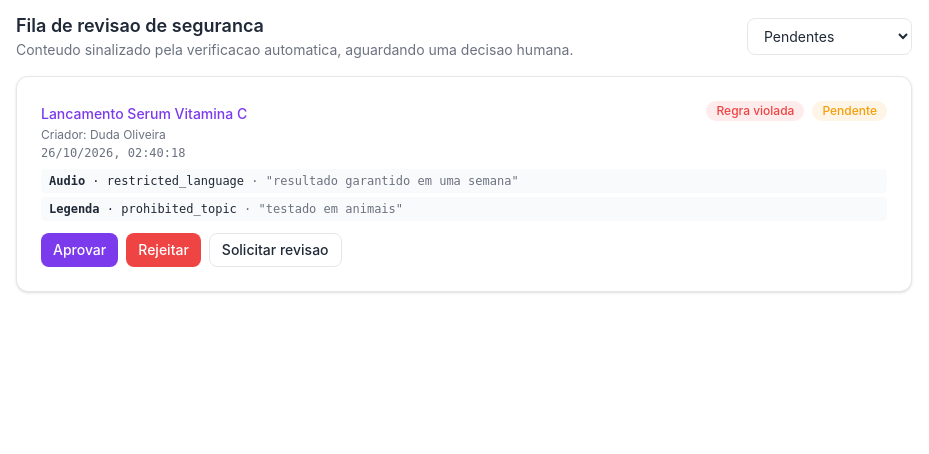
Test: ReviewQueuePage - US-17 › shows an explicit error and keeps the flagged item visible when the queue becomes unreachable on refresh
Expected: the link "Lancamento Serum Vitamina C" is shown, x1=41 y1=105 x2=247 y2=122
// Approving triggers a refetch of the list, which this time fails (503).
Click the button "Aprovar".
click(80, 250)  # box x1=41 y1=233 x2=118 y2=267
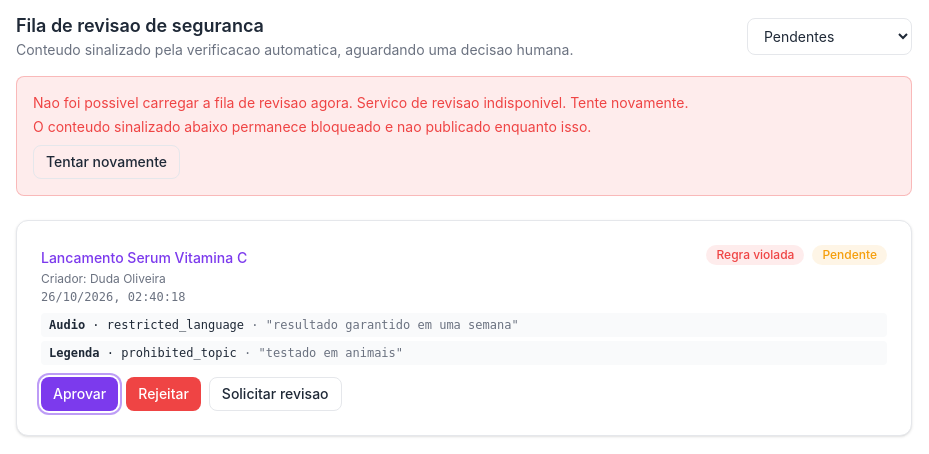
Expected: the link "Lancamento Serum Vitamina C" is shown, x1=41 y1=249 x2=247 y2=266
Expected: the text "Nao foi possivel carregar a fila de revisao agora" is shown, x1=33 y1=94 x2=353 y2=111
Expected: the text "permanece bloqueado e nao publicado" is shown, x1=33 y1=118 x2=591 y2=135
